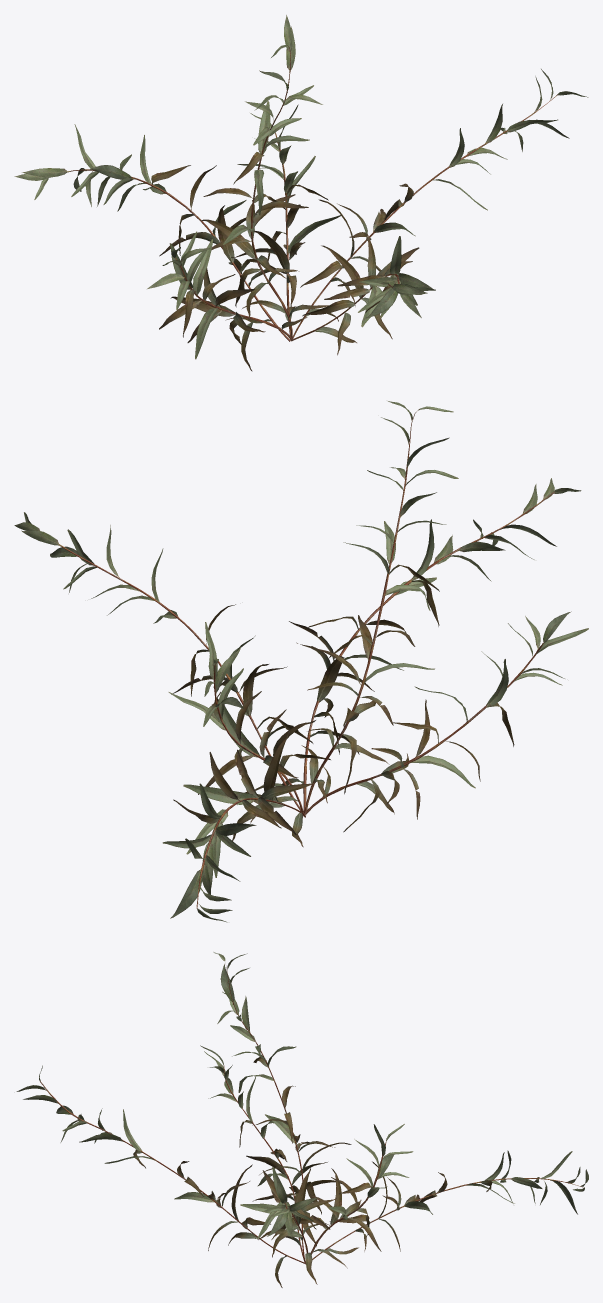
Rendered from shrub_c.glb.
3 views of the same model, one above another, from view 1: azimuth 30°, elevation 25°; view 2: azimuth 150°, elevation 25°; view 3: azimuth 270°, elevation 25° (orthographic). The views are drawn at different scales.
Parts seen in each view (by area): view 1: shrub_02_c; view 2: shrub_02_c; view 3: shrub_02_c.
Part boxes in pixels (box(x1,y1,x2,y2)): shrub_02_c: box(14, 15, 588, 371); shrub_02_c: box(14, 401, 588, 922); shrub_02_c: box(16, 952, 588, 1287).
Size of the model in its own units: 1.77 by 1.31 by 2.29.
1 material, 1 textured.
